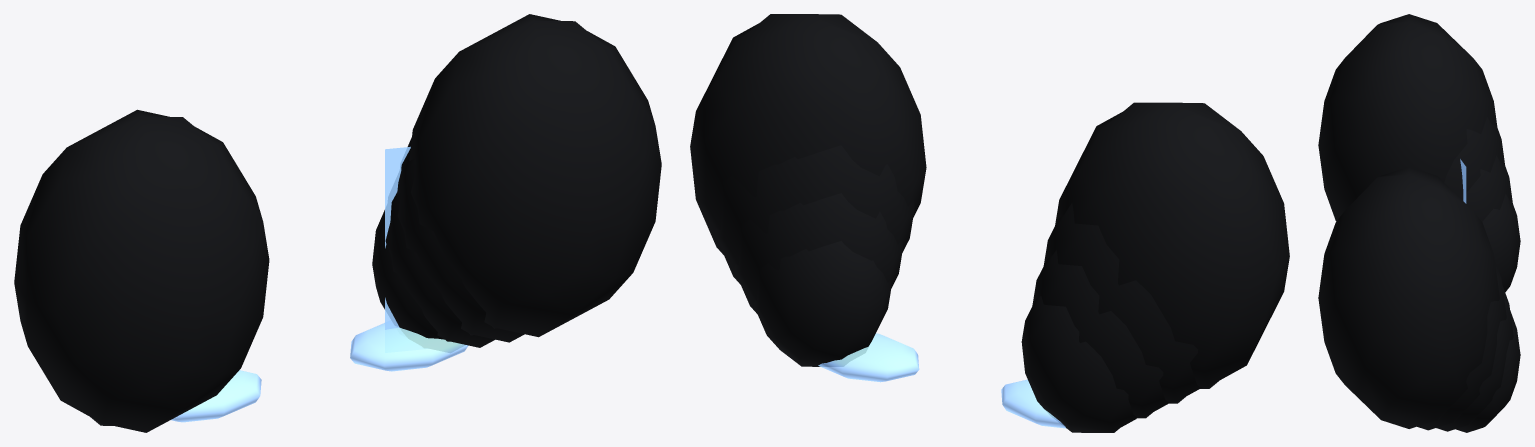
Rendered from cliff_waterfalls.glb.
The picture shows the model from 3 angles, left to right: view 1: azimuth 30°, elevation 25°; view 2: azimuth 150°, elevation 25°; view 3: azimuth 270°, elevation 25°; orthographic projection. The views are drawn at different scales.
Bounding box in the file's own units: 44.72 × 23.52 × 15.78.
